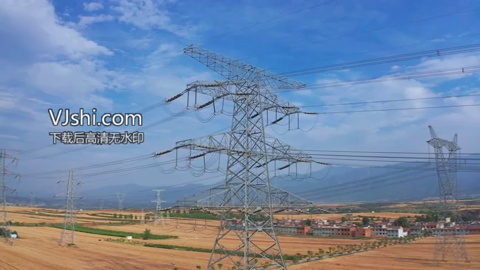tower_body: (170, 38, 312, 270)
tower_foot: (205, 222, 290, 270)
tower_head: (174, 40, 309, 121)
